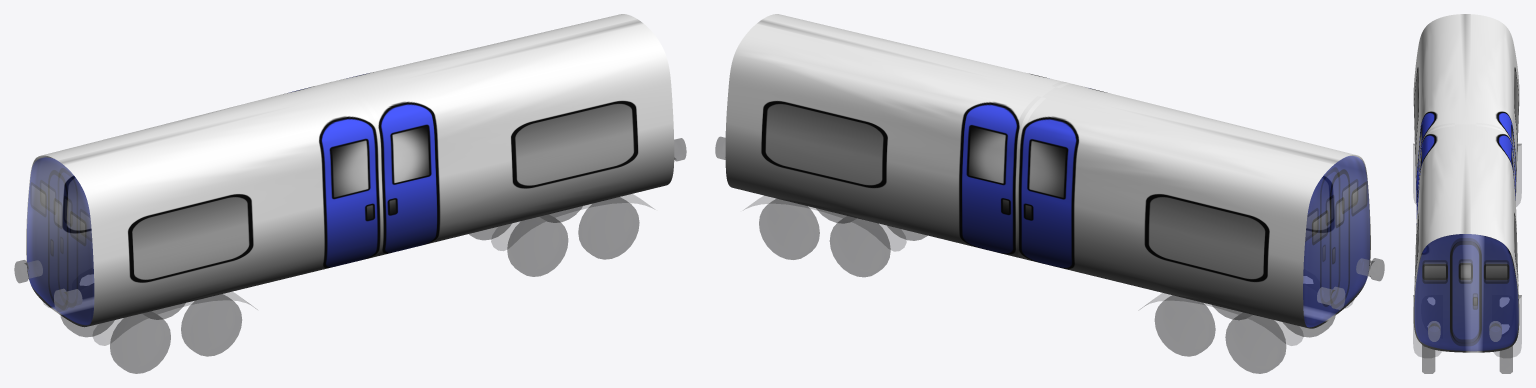
Rendered from trainCart.glb.
3 views of the same model, side by side, from view 1: azimuth 30°, elevation 25°; view 2: azimuth 150°, elevation 25°; view 3: azimuth 270°, elevation 25° (orthographic). The views are drawn at different scales.
Parts seen in each view (by area): view 1: TrainCart.obj; view 2: TrainCart.obj; view 3: TrainCart.obj.
Part boxes in pixels (x1=…): TrainCart.obj: x1=14, y1=14, x2=686, y2=373; TrainCart.obj: x1=715, y1=14, x2=1384, y2=373; TrainCart.obj: x1=1413, y1=14, x2=1521, y2=373.
Size of the model in its own units: 4.48 by 1.4 by 0.87.
Materials: 5 (2 with a texture image).
